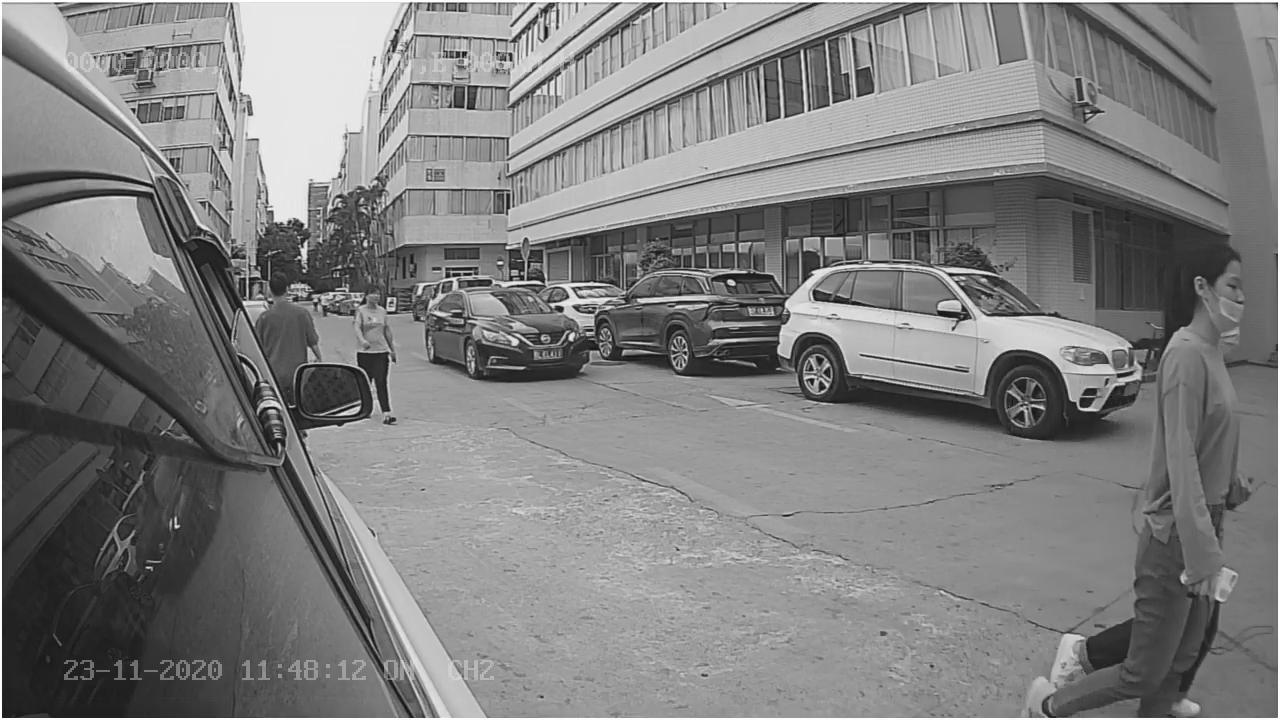person: (1129, 215, 1254, 611)
